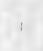one: (19, 19, 21, 30)
